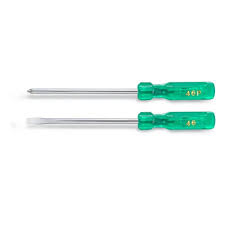screwdriver: (12, 111, 225, 134)
